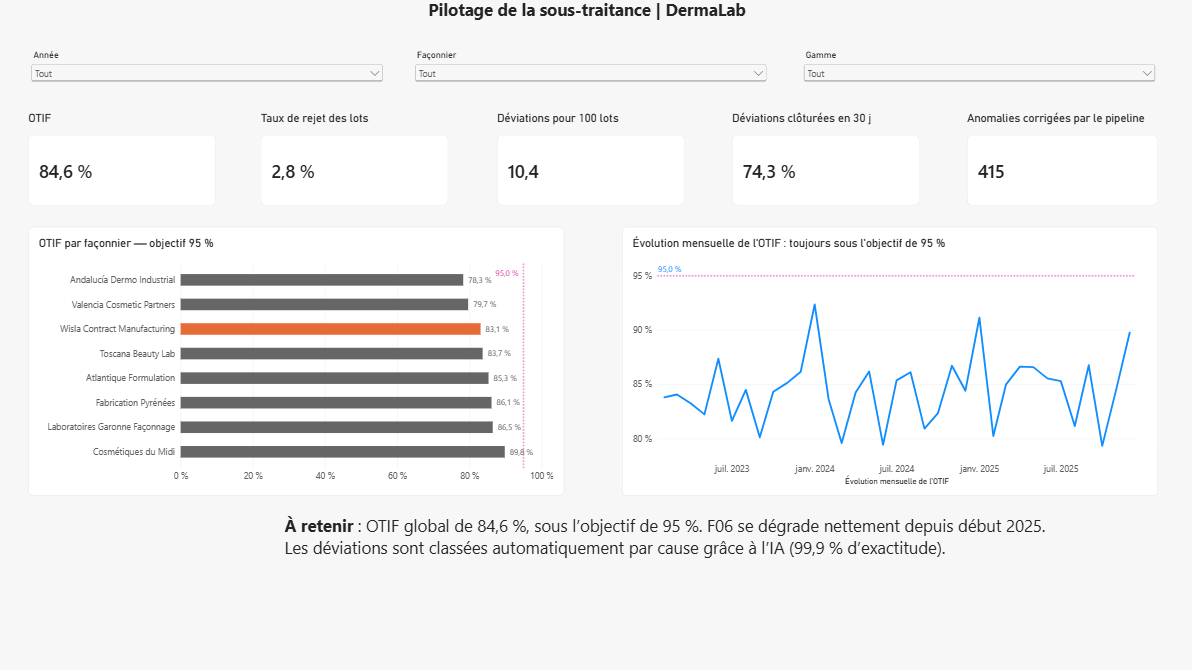

The dashboard page shown, as its layout file describes it:
{"tool":"powerbi","page":{"name":"Vue d’ensemble","canvas":[1920,1080],"ordinal":0},"visuals":[{"type":"textbox","box":[690,0,520,60],"z":0},{"type":"slicer","fields":{"Values":["dim_date.Année"]},"box":[50,82,572,60],"z":1},{"type":"slicer","fields":{"Values":["dim_facconnier.nom"]},"box":[664,82,572,60],"z":2},{"type":"slicer","fields":{"Values":["dim_produit.gamme"]},"box":[1286,82,572,60],"z":3},{"type":"cardVisual","title":"OTIF","fields":{"Data":["_Mesures.OTIF %"]},"box":[50,182.2,300,150],"z":4},{"type":"cardVisual","title":"Taux de rejet des lots","fields":{"Data":["_Mesures.Taux de rejet %"]},"box":[422.9,182.2,300,150],"z":5},{"type":"cardVisual","title":"Déviations pour 100 lots","fields":{"Data":["_Mesures.Déviations pour 100 lots"]},"box":[800,182.2,300,150],"z":6},{"type":"cardVisual","title":"Déviations clôturées en 30 j","fields":{"Data":["_Mesures.Clôturées en 30 j %"]},"box":[1175.7,182.2,300,150],"z":7},{"type":"cardVisual","title":"Anomalies corrigées par le pipeline","fields":{"Data":["_Mesures.Anomalies traitées"]},"box":[1551.4,182.2,305.7,150],"z":8},{"type":"clusteredBarChart","title":"OTIF par façonnier — objectif 95 %","fields":{"Category":["dim_facconnier.nom"],"Y":["_Mesures.OTIF %"]},"box":[50,366.1,857.5,430],"z":9},{"type":"lineChart","title":"Évolution mensuelle de l''OTIF : toujours sous l''objectif de 95 %","fields":{"Category":["dim_date.Début de mois"],"Y":["_Mesures.OTIF %"]},"box":[1000,366.9,857.5,430],"z":10},{"type":"textbox","box":[460,826.9,1243.3,86.7],"z":11}]}

Visuals, with their boxes in screenshot pixels (x1, y1, x2, y2), scaled from the page's 1920x1080 canvas onto the 1192x670 screenshot:
textbox: <bbox>428, 0, 751, 37</bbox>
slicer - dim_date.Année: <bbox>31, 51, 386, 88</bbox>
slicer - dim_facconnier.nom: <bbox>412, 51, 767, 88</bbox>
slicer - dim_produit.gamme: <bbox>798, 51, 1154, 88</bbox>
"OTIF" cardVisual: <bbox>31, 113, 217, 206</bbox>
"Taux de rejet des lots" cardVisual: <bbox>263, 113, 449, 206</bbox>
"Déviations pour 100 lots" cardVisual: <bbox>497, 113, 683, 206</bbox>
"Déviations clôturées en 30 j" cardVisual: <bbox>730, 113, 916, 206</bbox>
"Anomalies corrigées par le pipeline" cardVisual: <bbox>963, 113, 1153, 206</bbox>
"OTIF par façonnier — objectif 95 %" clusteredBarChart: <bbox>31, 227, 563, 494</bbox>
"Évolution mensuelle de l''OTIF : toujours sous l''objectif de 95 %" lineChart: <bbox>621, 228, 1153, 494</bbox>
textbox: <bbox>286, 513, 1057, 567</bbox>
